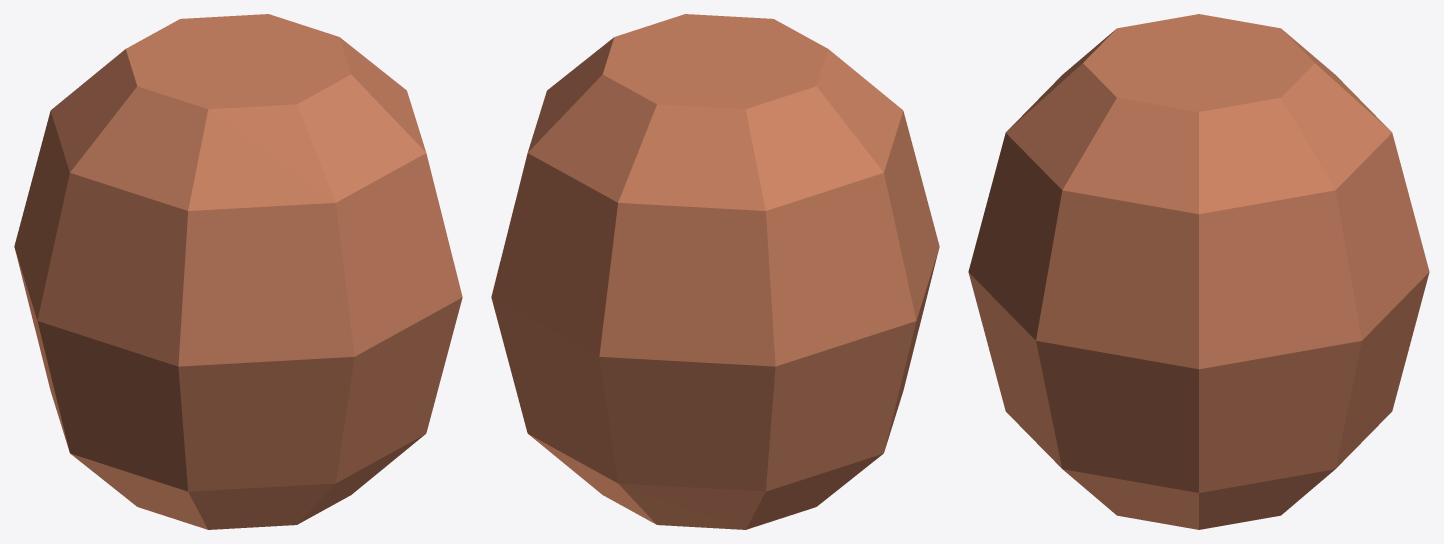
File: coconut.glb
3 renders of one model, left to right at view 1: azimuth 30°, elevation 25°; view 2: azimuth 150°, elevation 25°; view 3: azimuth 270°, elevation 25°, orthographic.
Size of the model in its own units: 0.2483 by 0.2483 by 0.2483.
